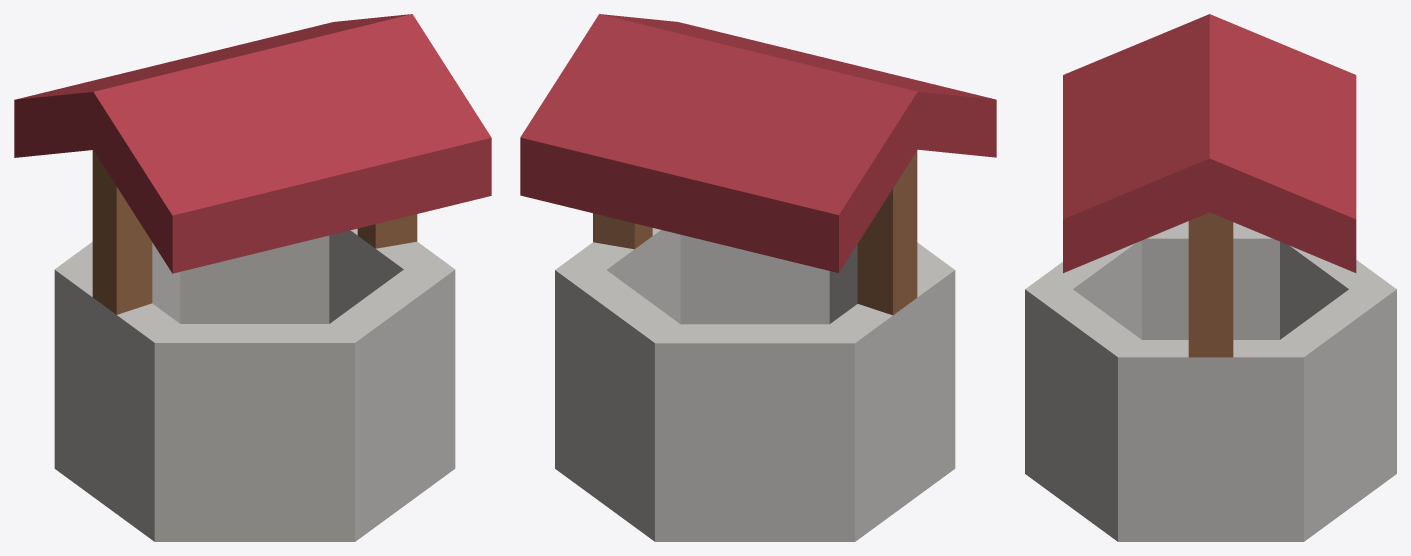
Rendered from quaternius-modular-medieval-buildings-well.glb.
The picture shows the model from 3 angles, left to right: view 1: azimuth 30°, elevation 25°; view 2: azimuth 150°, elevation 25°; view 3: azimuth 270°, elevation 25°; orthographic projection. The views are drawn at different scales.
Parts seen in each view (by area): view 1: Well; view 2: Well; view 3: Well.
Boxes of the visible parts, x1,y1,x2,y2 form: Well: [14, 14, 491, 541]; Well: [520, 14, 996, 541]; Well: [1025, 14, 1396, 541].
Size of the model in its own units: 0.5932 by 0.7404 by 0.6453.
